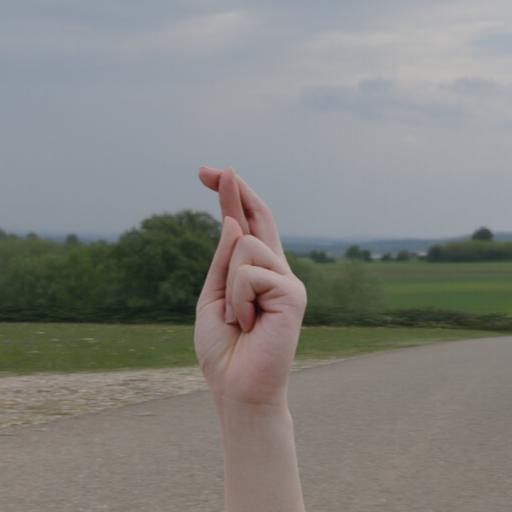R: (179, 149, 332, 512)
